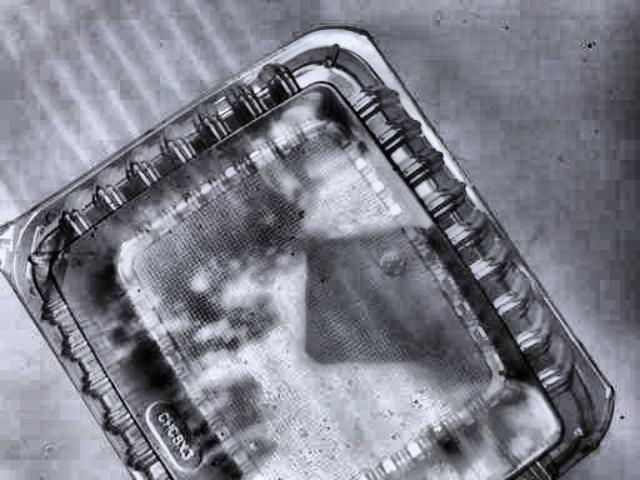Plastic: (0, 17, 640, 480)
